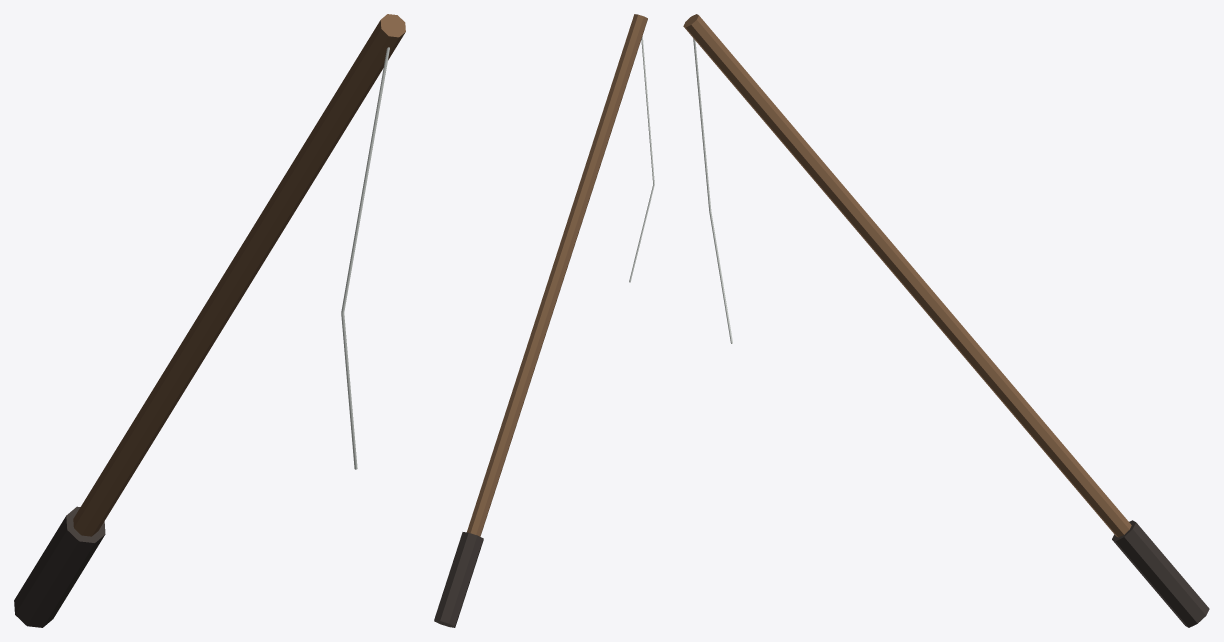
File: FishingRod.glb
3 renders of one model, left to right at view 1: azimuth 30°, elevation 25°; view 2: azimuth 150°, elevation 25°; view 3: azimuth 270°, elevation 25°, orthographic. The views are drawn at different scales.
Visible parts, largest first — view 1: FishingRod; view 2: FishingRod; view 3: FishingRod.
Boxes of the visible parts, x1=… form: FishingRod: x1=14, y1=14, x2=405, y2=627; FishingRod: x1=434, y1=14, x2=654, y2=627; FishingRod: x1=683, y1=14, x2=1209, y2=627.
Size of the model in its own units: 0.0687 by 0.9982 by 0.7798.
